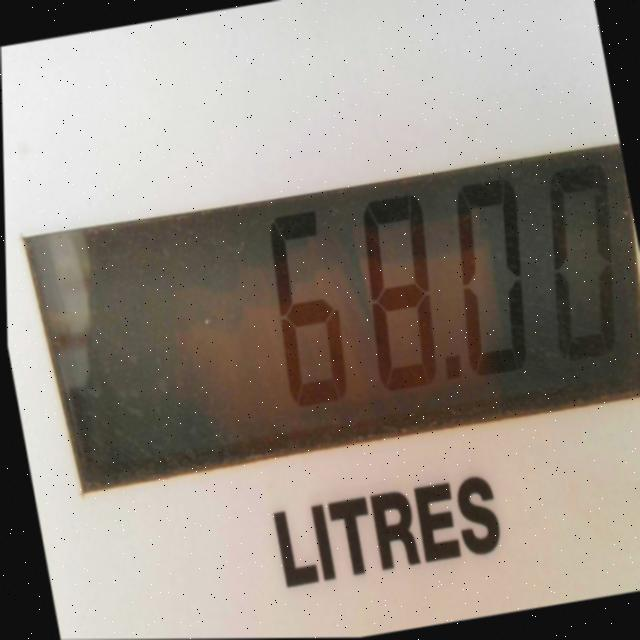.: (428, 343, 474, 415)
0: (428, 168, 562, 414), (528, 158, 640, 383)
6: (240, 194, 366, 427)
8: (338, 166, 457, 421)
